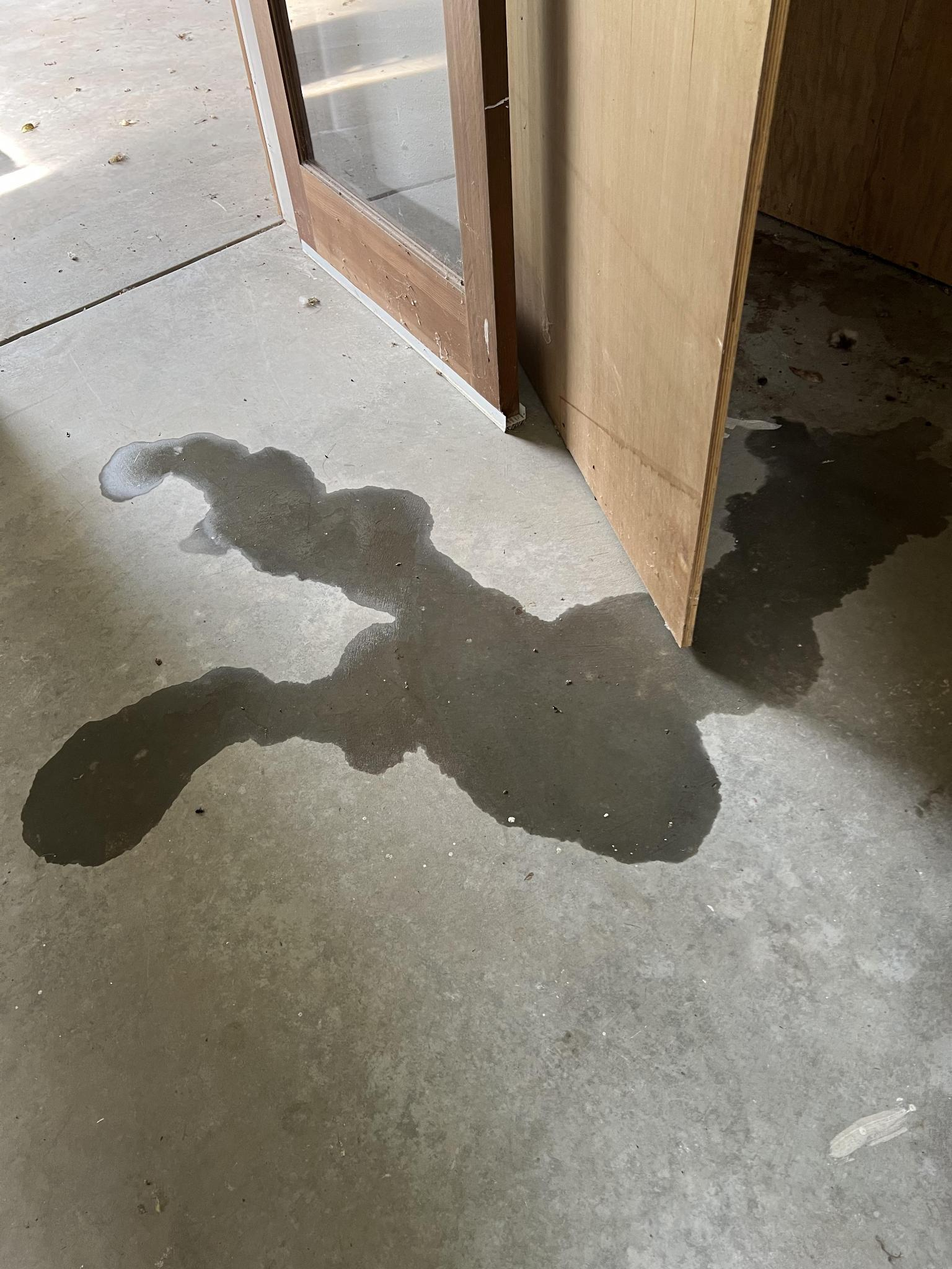water accumulation: (27, 421, 921, 873)
